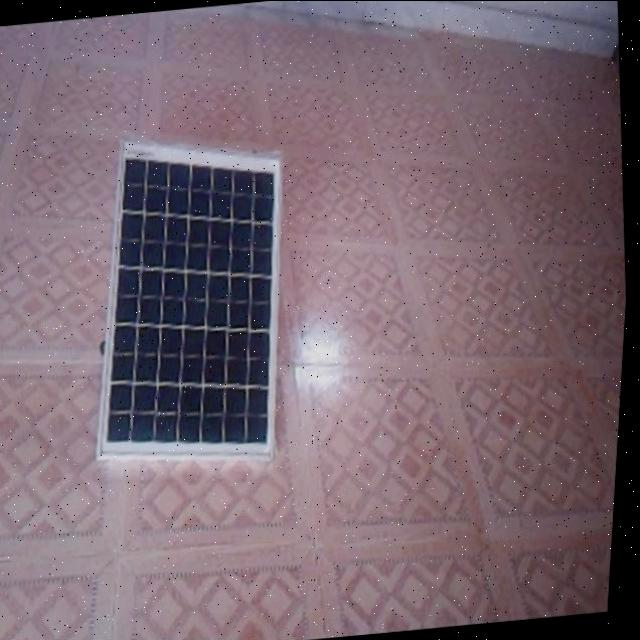Normal Solar Panel: (72, 128, 308, 474)
